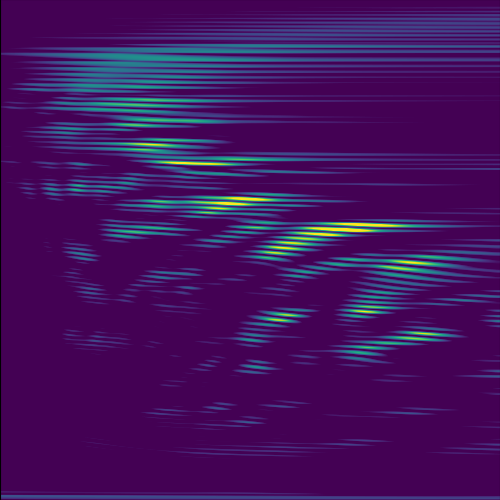semblance: (246, 216, 410, 262), (179, 187, 301, 226), (366, 247, 460, 283), (108, 128, 209, 156), (148, 155, 268, 171)
